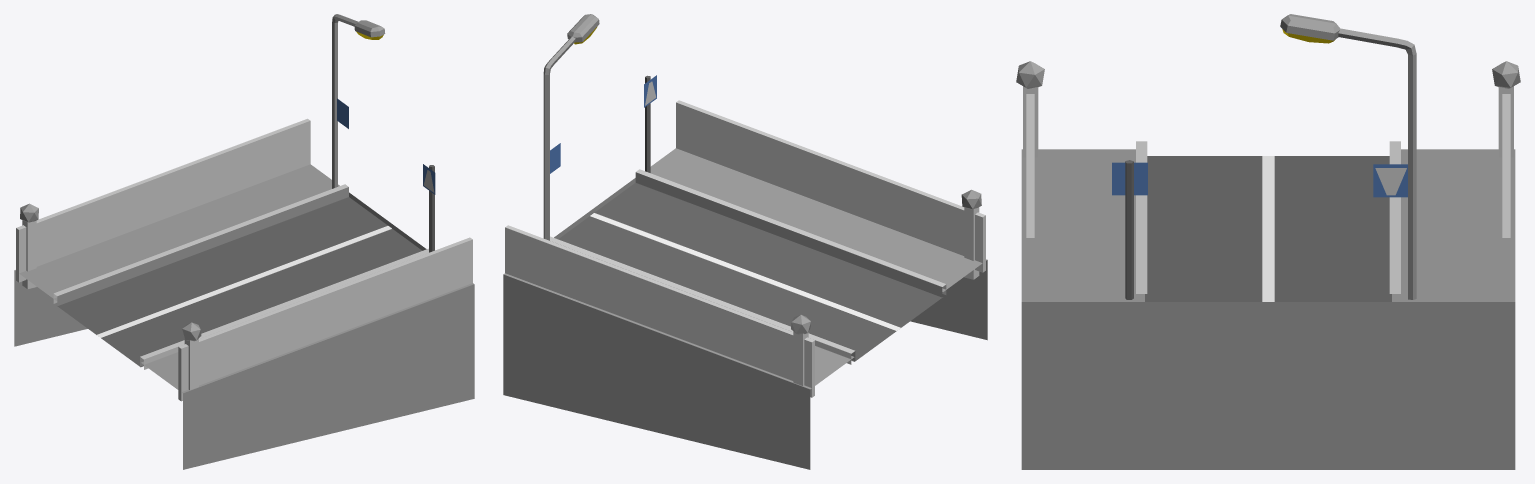
File: Bridge_Tile_2.fbx
3 views of the same model, side by side, from view 1: azimuth 30°, elevation 25°; view 2: azimuth 150°, elevation 25°; view 3: azimuth 270°, elevation 25° (orthographic). The views are drawn at different scales.
Parts seen in each view (by area): view 1: Bridge_Road_2, Bridge_Wall_2_2, Bridge_Wall_2_1, Bridge_Light, Bridge_Sign; view 2: Bridge_Road_2, Bridge_Wall_2_1, Bridge_Wall_2_2, Bridge_Light, Bridge_Sign; view 3: Bridge_Road_2, Bridge_Light, Bridge_Wall_2_1, Bridge_Wall_2_2, Bridge_Sign.
Boxes of the visible parts, bbox=[...] form: Bridge_Road_2: bbox=[14, 164, 474, 469]; Bridge_Wall_2_2: bbox=[16, 118, 310, 289]; Bridge_Wall_2_1: bbox=[178, 237, 472, 401]; Bridge_Light: bbox=[332, 14, 385, 188]; Bridge_Sign: bbox=[423, 164, 435, 252]; Bridge_Road_2: bbox=[503, 148, 987, 469]; Bridge_Wall_2_1: bbox=[676, 100, 985, 279]; Bridge_Wall_2_2: bbox=[505, 225, 814, 397]; Bridge_Light: bbox=[543, 14, 599, 240]; Bridge_Sign: bbox=[644, 75, 656, 172]; Bridge_Road_2: bbox=[1021, 141, 1515, 469]; Bridge_Light: bbox=[1280, 14, 1416, 299]; Bridge_Wall_2_1: bbox=[1016, 61, 1044, 237]; Bridge_Wall_2_2: bbox=[1492, 61, 1520, 237]; Bridge_Sign: bbox=[1112, 160, 1147, 299].
Bounding box in the file's own units: 4.01 × 4.02 × 4.09.
